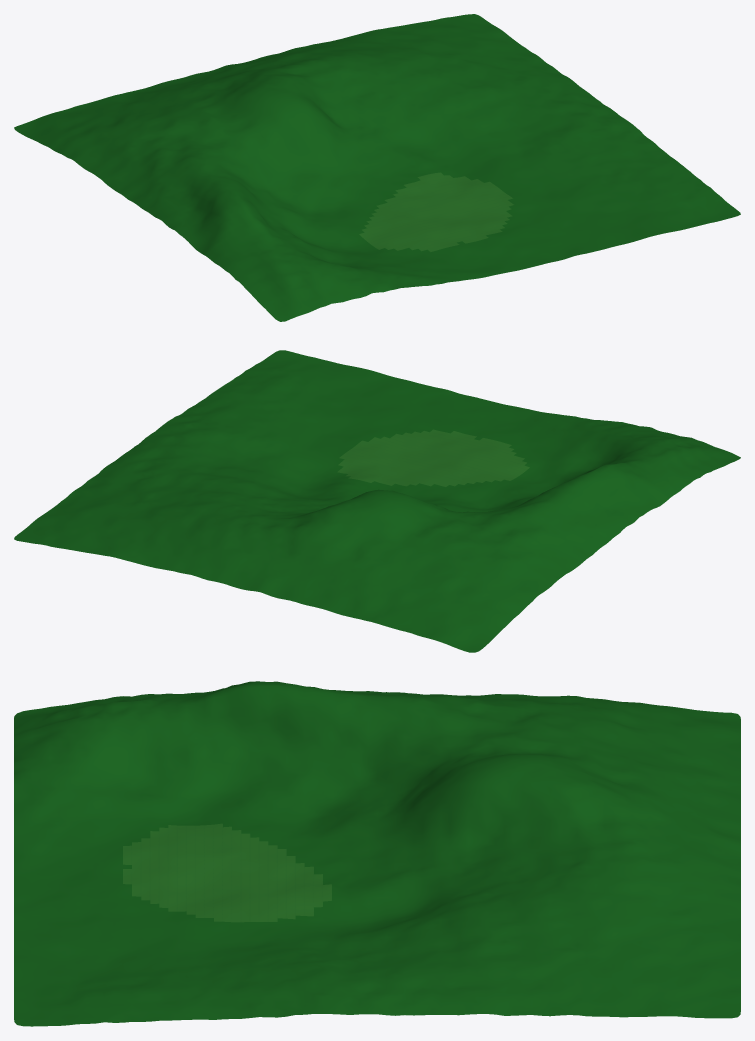
Rendered from ground.obj.
3 renders of one model, top to bottom at view 1: azimuth 30°, elevation 25°; view 2: azimuth 150°, elevation 25°; view 3: azimuth 270°, elevation 25°, orthographic. The views are drawn at different scales.
Visible parts, largest first — view 1: ground; view 2: ground; view 3: ground.
Boxes of the visible parts, left/top/right/bottom form: ground: left=14, top=14, right=740, bottom=321; ground: left=14, top=350, right=740, bottom=652; ground: left=14, top=681, right=740, bottom=1026.
Bounding box in the file's own units: 80 × 9.49 × 80.
